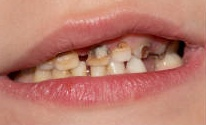Caries: (88, 45, 113, 63), (138, 40, 152, 59)
